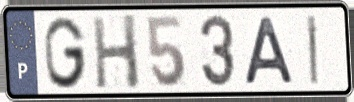3: (198, 12, 237, 89)
5: (144, 14, 188, 90)
A: (240, 15, 297, 86)
G: (42, 14, 89, 91)
H: (90, 12, 143, 92)
I: (305, 13, 320, 87)
